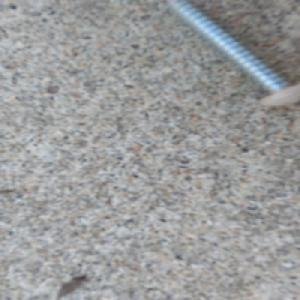Screw: (165, 0, 300, 108)
